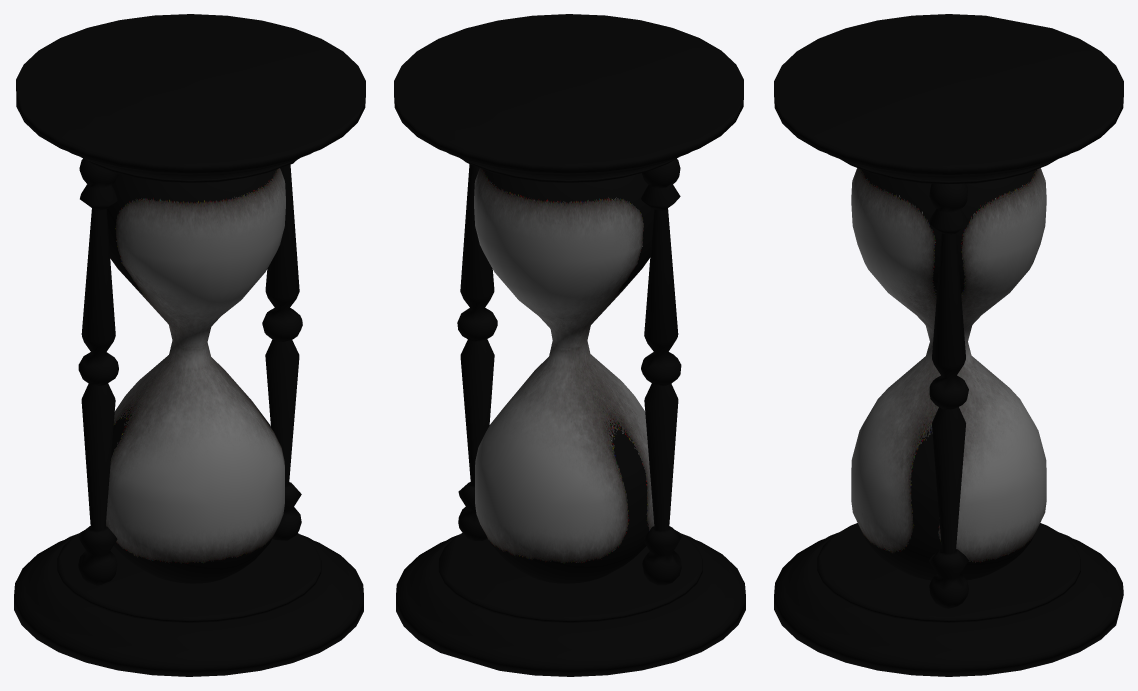
File: hourglass-low.glb
The picture shows the model from 3 angles, left to right: view 1: azimuth 30°, elevation 25°; view 2: azimuth 150°, elevation 25°; view 3: azimuth 270°, elevation 25°; orthographic projection.
Visible parts, largest first — view 1: bottom_stand_lambert1_0; view 2: bottom_stand_lambert1_0; view 3: bottom_stand_lambert1_0.
Part boxes in pixels (x1=…): bottom_stand_lambert1_0: x1=14, y1=14, x2=365, y2=676; bottom_stand_lambert1_0: x1=394, y1=14, x2=745, y2=676; bottom_stand_lambert1_0: x1=774, y1=14, x2=1123, y2=676.
Bounding box in the file's own units: 0.3965 × 0.6372 × 0.392.
Materials: 1 (1 with a texture image).
